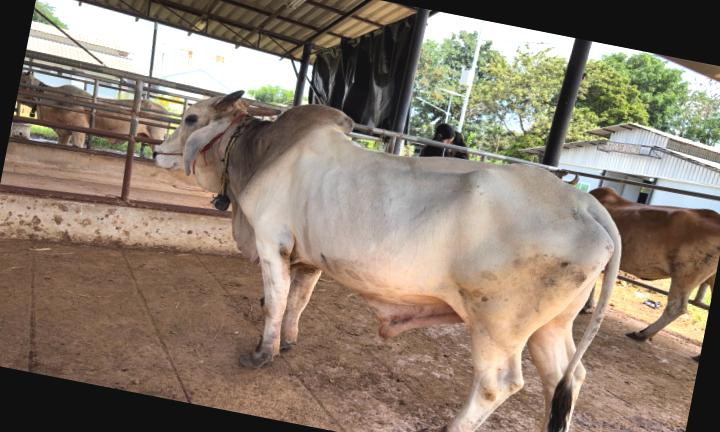Brahman: (155, 91, 621, 432)
